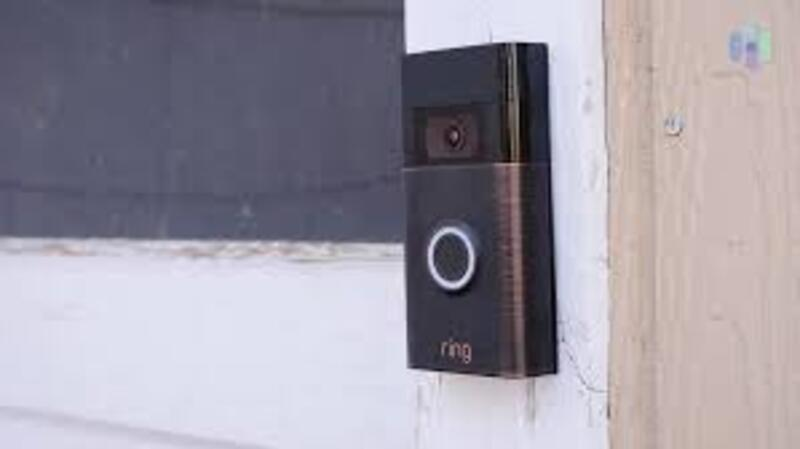doorbell: (397, 47, 559, 392)
